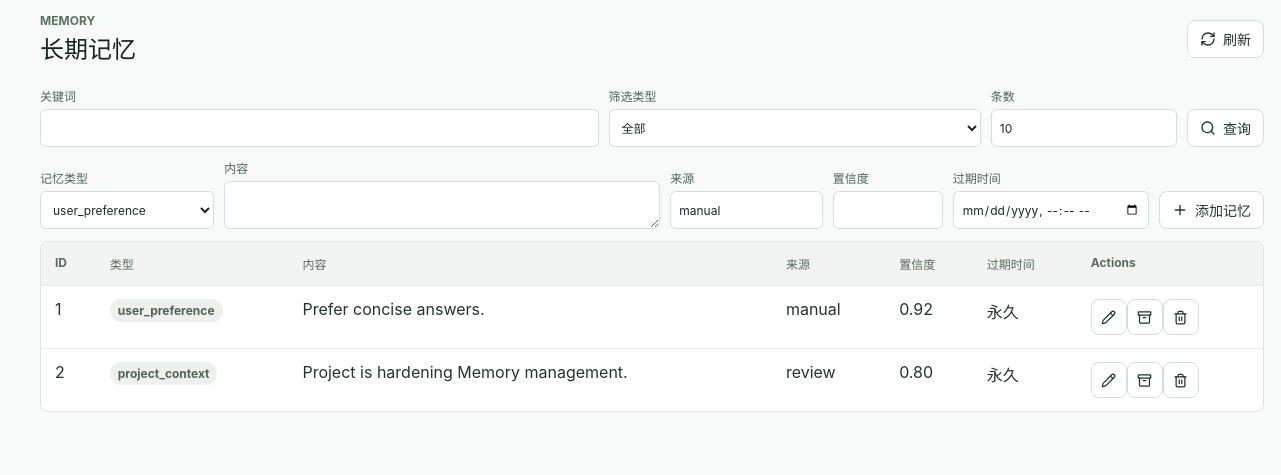
Test case: MemoryView 长期记忆页 › edits, archives, and deletes memories
Expected: the text "Prefer concise answers." is shown, [288,286,772,348]
Click the button named "Edit memory 1" at (1109, 317), box [1091,299,1127,335]
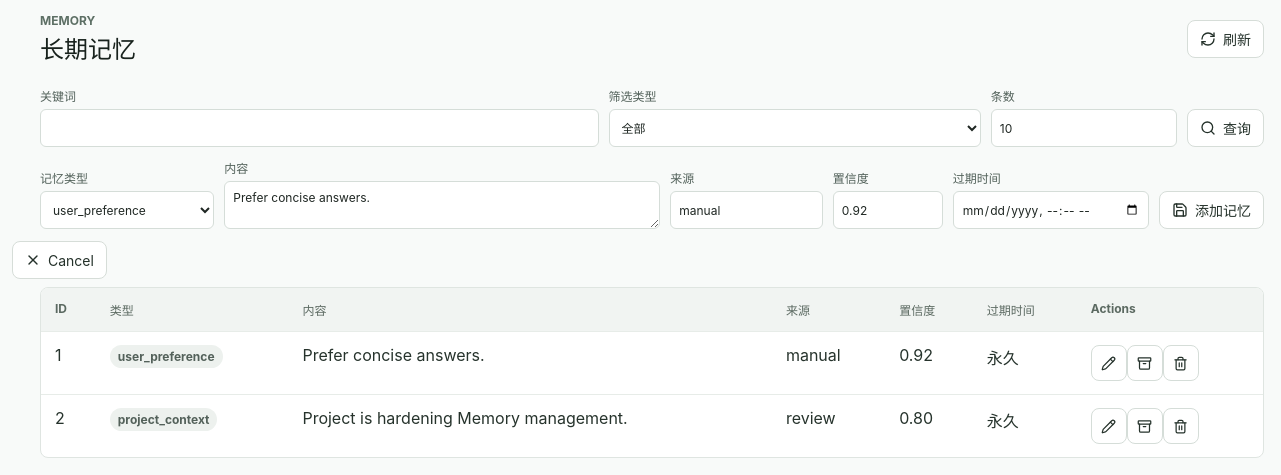
Replace the text in the text box showing "Prefer concise answers." with "Prefer source-backed concise answers." at (442, 205), box [224,181,660,229]
Replace the text in the field showing "manual" with "review" at (747, 210), box [670,191,823,229]
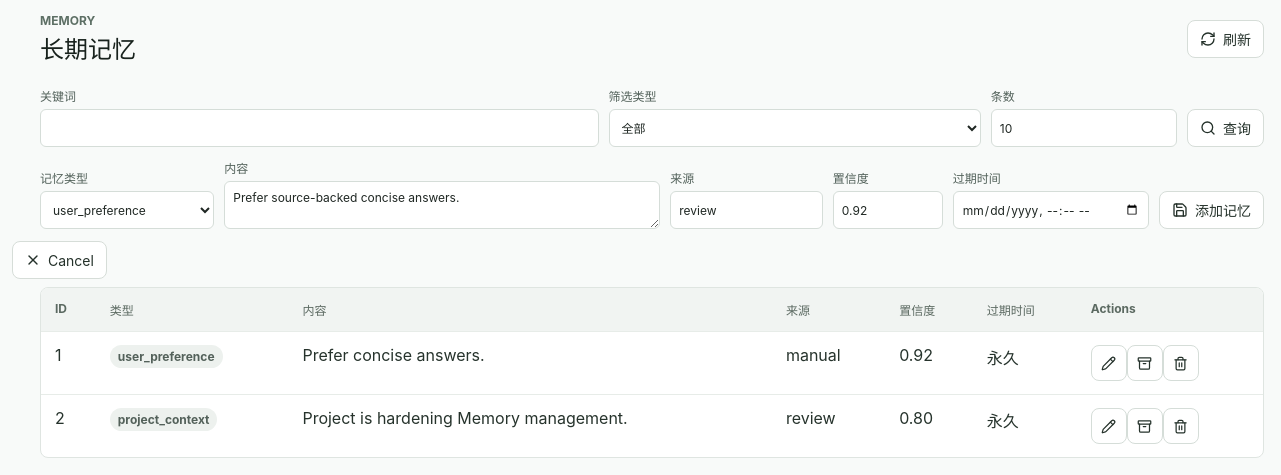
Replace the text in the number field showing "0.92" with "0.7" at (888, 210), box [833,191,943,229]
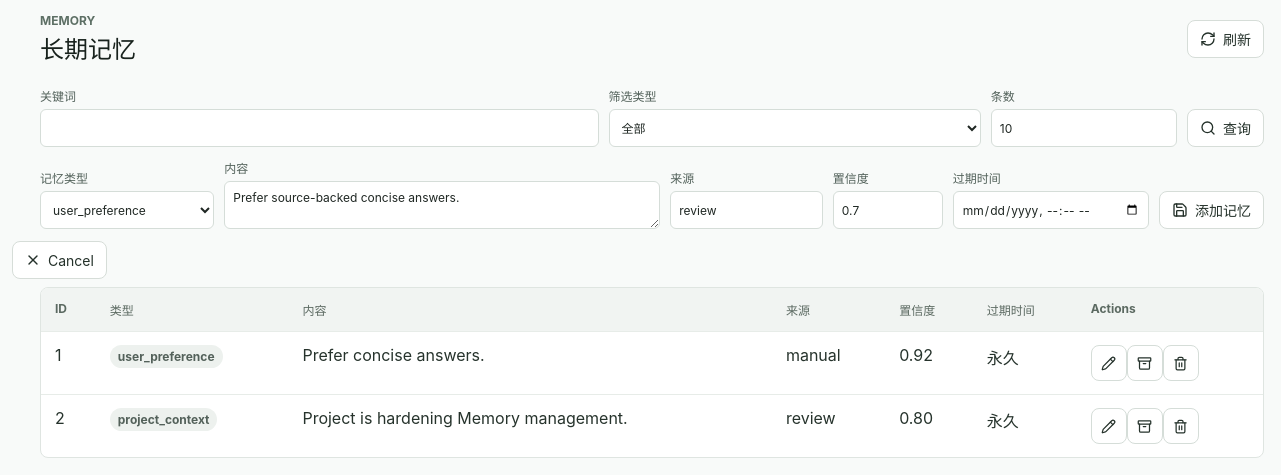
Click the button with aria-label "Save memory changes" at (1212, 210), box [1159,191,1264,229]
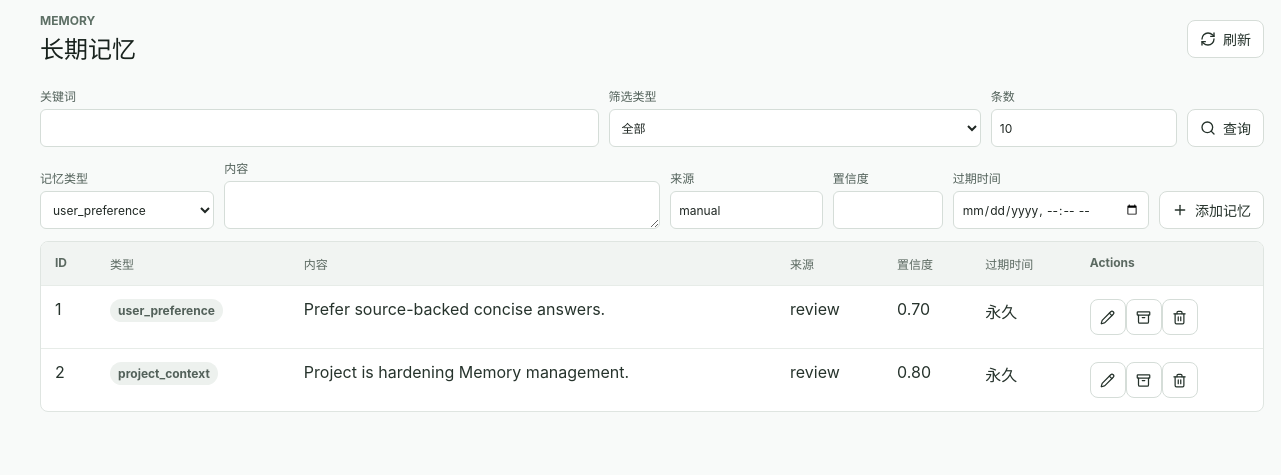
Expected: the text "Prefer source-backed concise answers." is shown, [290,286,776,348]
Click the button named "Archive memory 1" at (1144, 317), box [1126,299,1162,335]
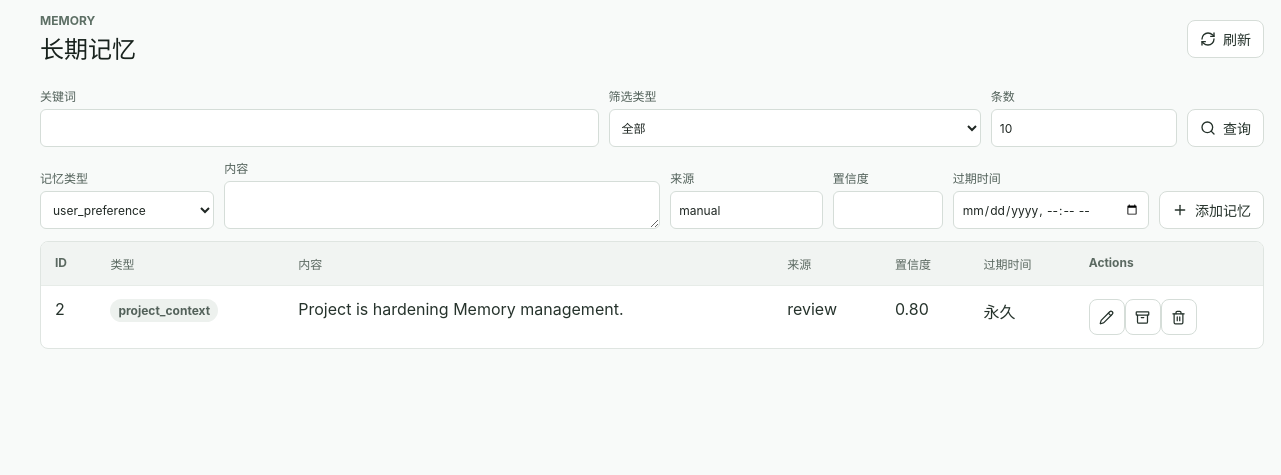
Expected: the text "Prefer source-backed concise answers." is gone
Click the button named "Delete memory 2" at (1179, 317), box [1161,299,1197,335]
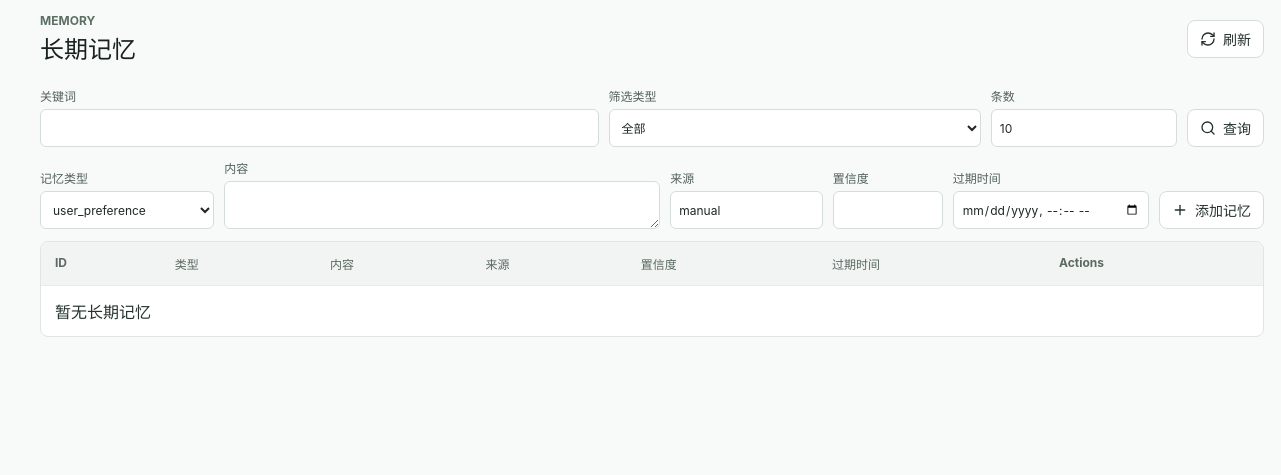
Expected: the text "Project is hardening Memory management." is gone
